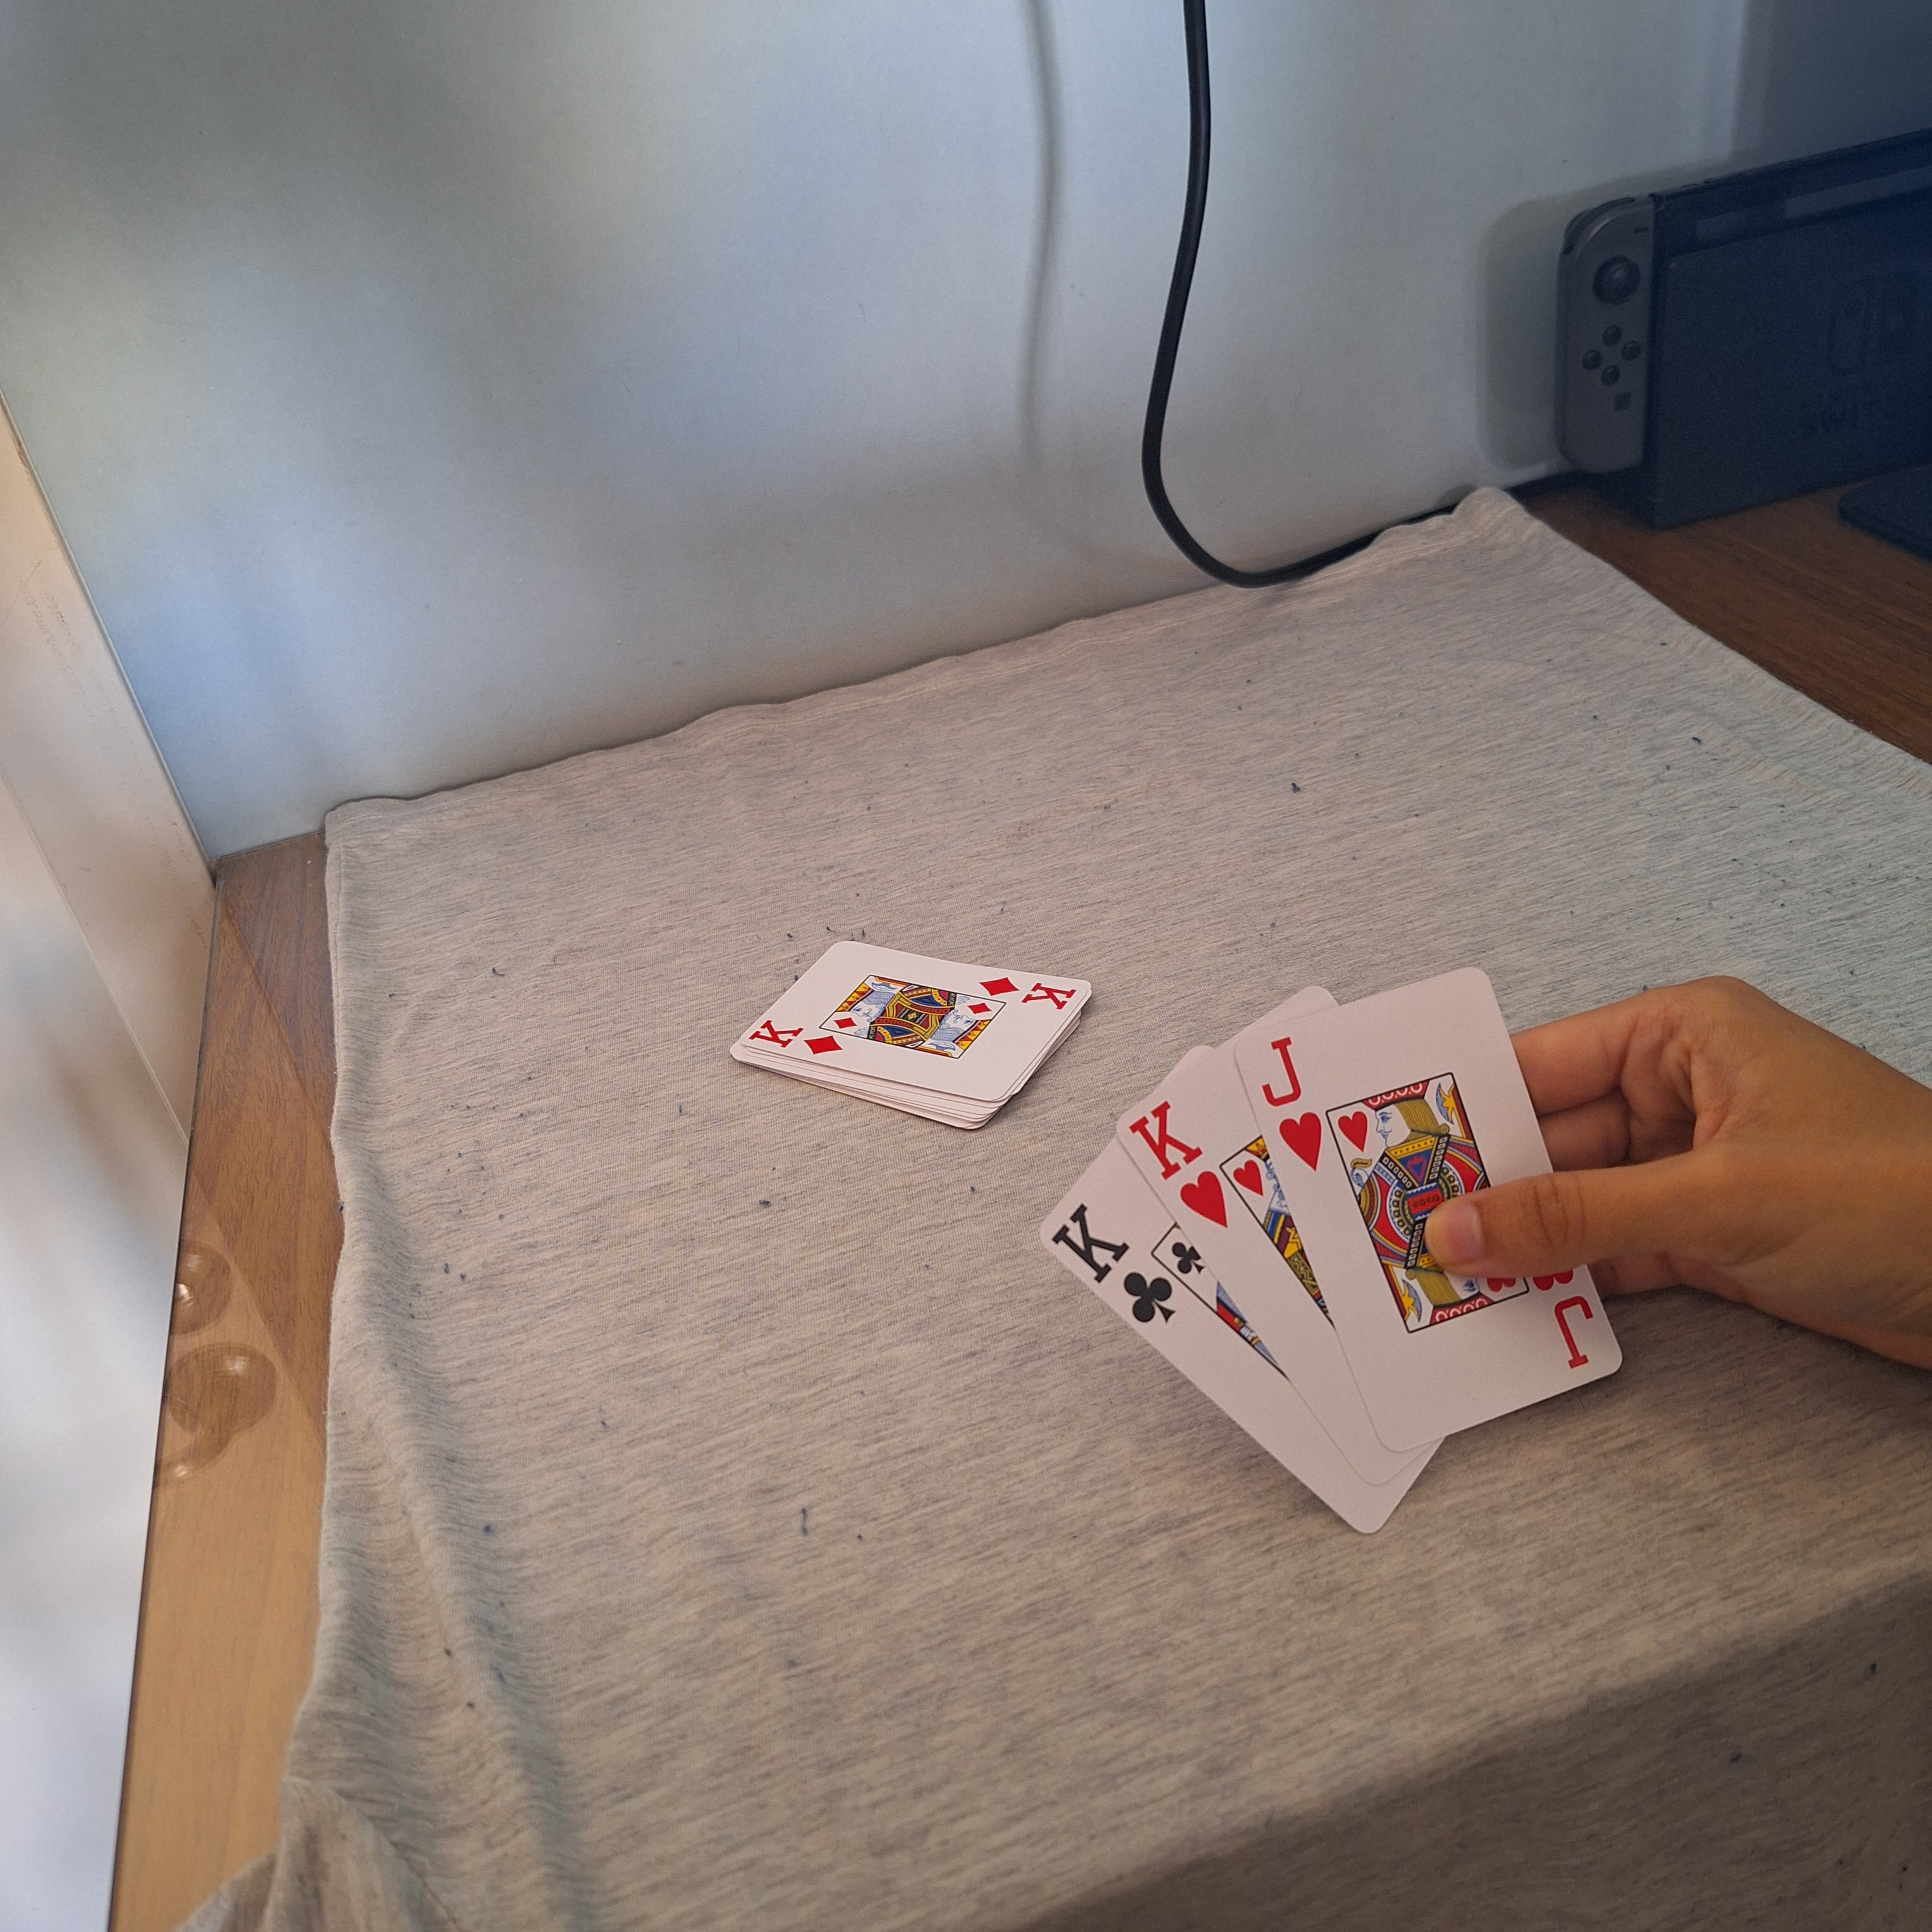JC: (1260, 1035, 1327, 1173)
KO: (1123, 1097, 1231, 1230), (747, 1016, 844, 1058), (977, 973, 1077, 1012)
KP: (1047, 1201, 1177, 1325)
